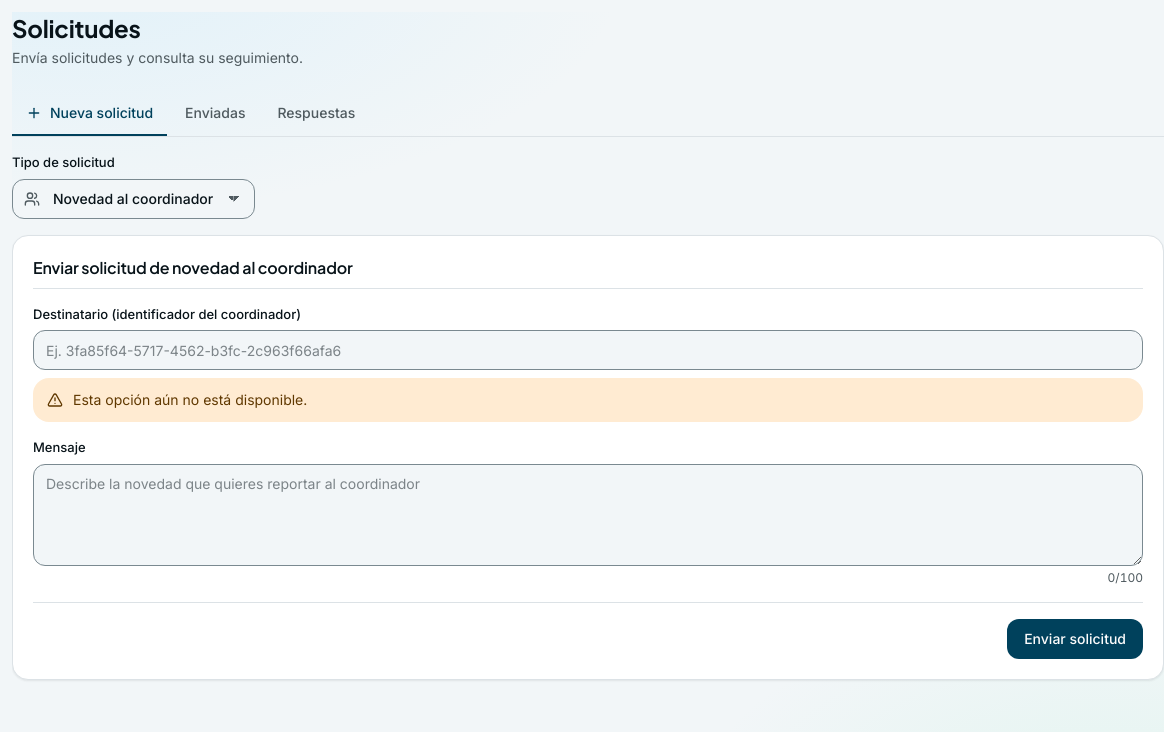
Test case: Solicitudes › en Respuestas el estudiante cambia a Ampliación de plazo y ve ese listado
The width and height of the screenshot is (1164, 732).
Click the tab "Respuestas" at (316, 114), box [263,92,369,136]
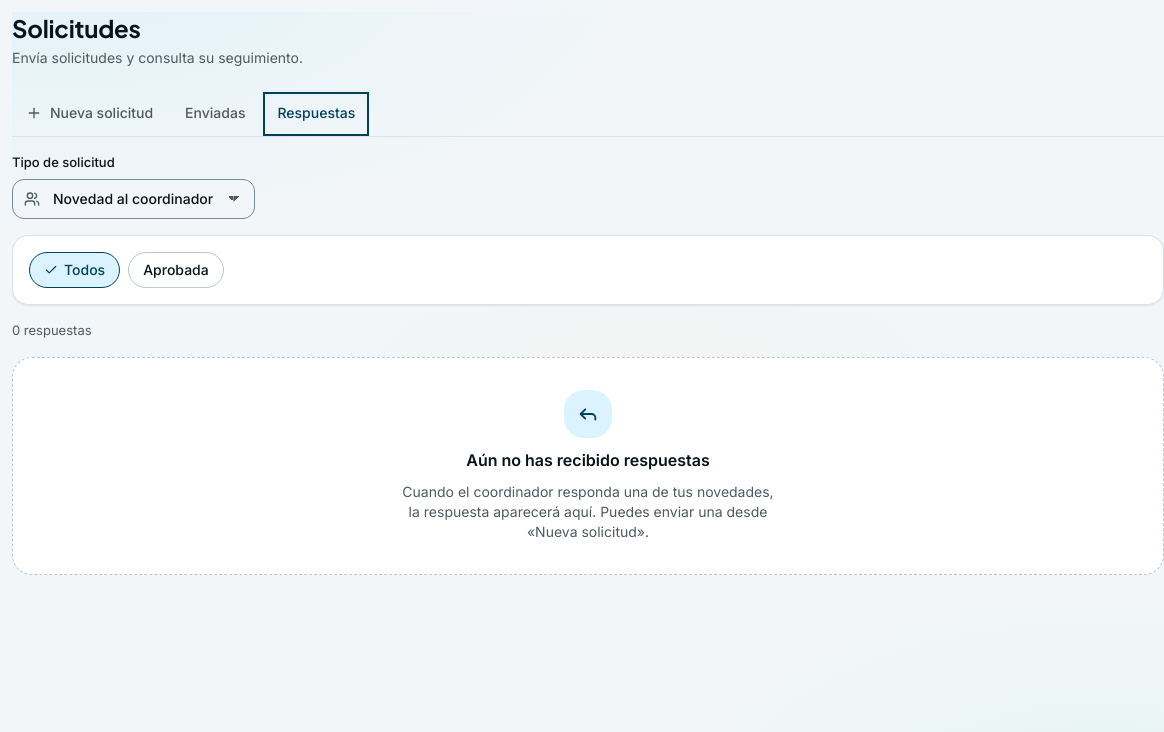
Select "Ampliación de plazo" in the dropdown labelled "Tipo de solicitud" at (134, 198), box [12,178,255,218]
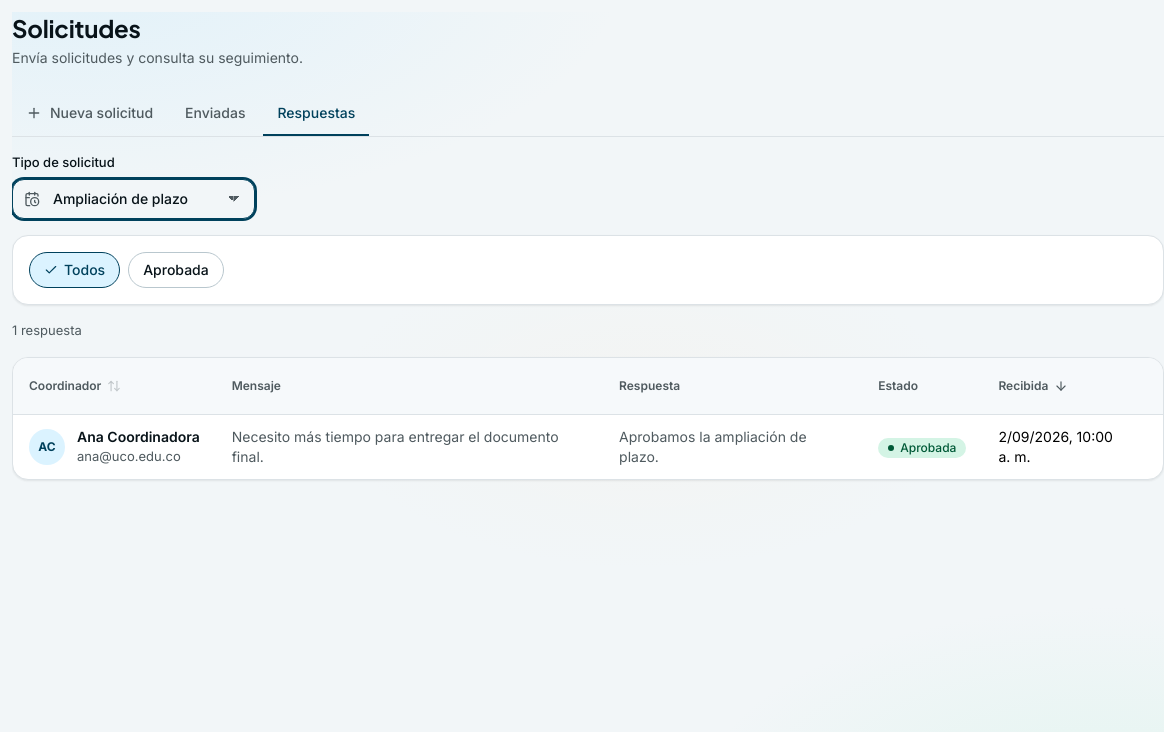
Check: the text "Aprobamos la ampliación de plazo." is shown, box [619,428,807,464]
